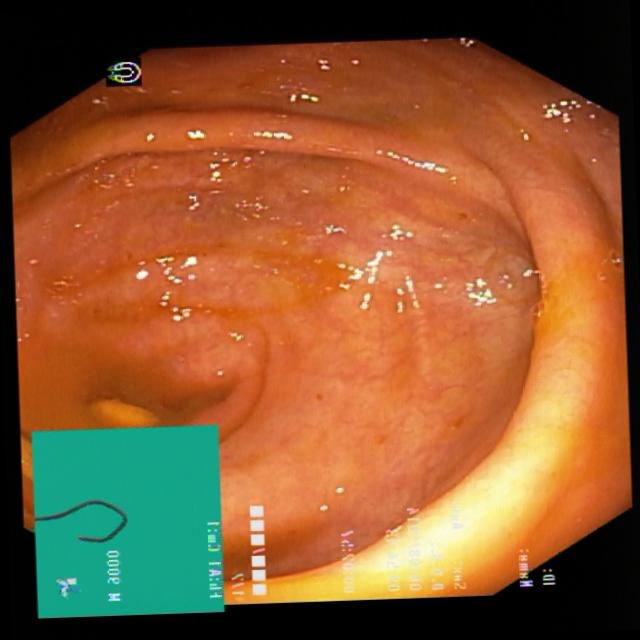normal-cecum: (2, 65, 289, 236), (17, 274, 255, 434), (205, 207, 375, 324)
